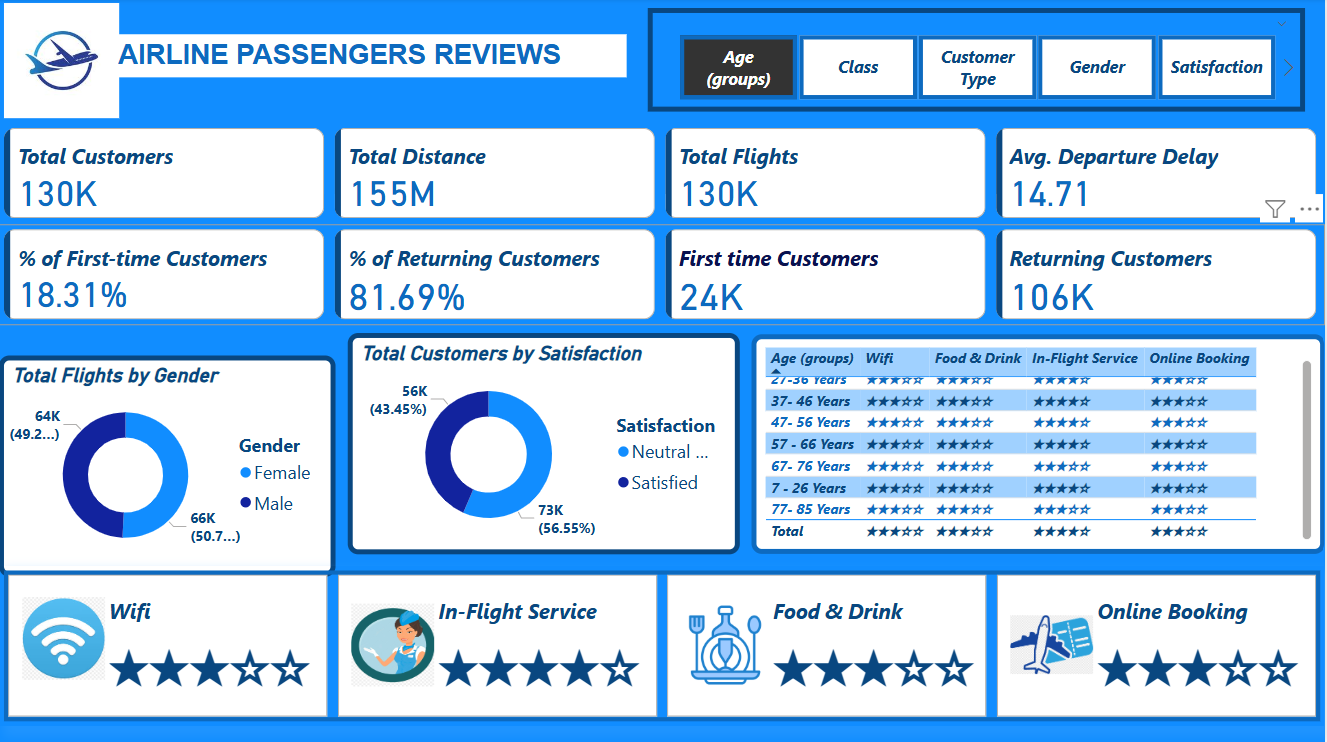

The dashboard page shown, as its layout file describes it:
{"tool":"powerbi","page":{"name":"Page 1","canvas":[1280,720],"ordinal":0},"visuals":[{"type":"cardVisual","fields":{"Data":["Measure Table.Total Customers","Measure Table.Total Distance","Measure Table.Total Flights","Measure Table.Avg. Departure Delay"]},"box":[0,121,1279.7,97.9],"z":0},{"type":"image","box":[0,0,120.9,120.9],"z":1000},{"type":"textbox","box":[109.5,35.6,496.4,41.2],"z":2000},{"type":"cardVisual","fields":{"Data":["Measure Table.% of First-time Customers","Measure Table.% of Returning Customers","Measure Table.First time Customers","Measure Table.Returning Customers"]},"box":[0,218.9,1279.7,97],"z":3000},{"type":"donutChart","fields":{"Category":["airline_passenger_satisfaction.Gender"],"Y":["Measure Table.Total Flights"]},"box":[0,345,324.5,213.5],"z":4000},{"type":"donutChart","fields":{"Category":["airline_passenger_satisfaction.Satisfaction"],"Y":["Measure Table.Total Customers"]},"box":[337.1,322.8,378.3,213.3],"z":5000},{"type":"slicer","fields":{"Values":["Slicer.Slicer"]},"box":[626.1,9.7,634.6,100.1],"z":6000},{"type":"tableEx","fields":{"Values":["airline_passenger_satisfaction.Age (groups)","Measure Table.Wifi","Measure Table.Food & Drink","Measure Table.In-Flight Service","Measure Table.Online Booking"]},"box":[726.3,324.5,553.8,212.3],"z":7000},{"type":"cardVisual","fields":{"Data":["Measure Table.Wifi","Measure Table.In-Flight Service","Measure Table.Food & Drink","Measure Table.Ease of Online Booking"]},"box":[0,547.6,1280,155],"z":7001}]}

Visuals, with their boxes in screenshot pixels (x1, y1, x2, y2), scaled from the page's 1280x720 canvas onto the 1327x742 screenshot:
cardVisual - Measure Table.Total Customers x Measure Table.Total Distance: 0/125/1326/226
image: 0/0/125/125
textbox: 114/37/628/79
cardVisual - Measure Table.% of First-time Customers x Measure Table.% of Returning Customers: 0/226/1326/326
donutChart - airline_passenger_satisfaction.Gender x Measure Table.Total Flights: 0/356/336/576
donutChart - airline_passenger_satisfaction.Satisfaction x Measure Table.Total Customers: 349/333/742/552
slicer - Slicer.Slicer: 649/10/1307/113
tableEx - airline_passenger_satisfaction.Age (groups) x Measure Table.Wifi: 753/334/1326/553
cardVisual - Measure Table.Wifi x Measure Table.In-Flight Service: 0/564/1326/724
